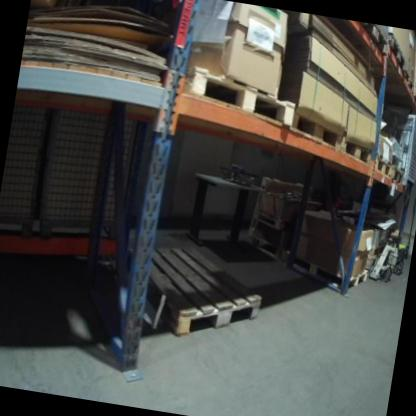pallet: (113, 237, 266, 348), (178, 65, 299, 128), (285, 249, 370, 295), (287, 108, 346, 150), (357, 22, 392, 55), (383, 33, 410, 73), (338, 135, 373, 165), (371, 154, 394, 177), (399, 68, 416, 94), (388, 166, 404, 185), (410, 88, 416, 107)
pallet_truck: (358, 176, 416, 289), (393, 191, 416, 279)
stillage: (33, 99, 142, 252), (0, 94, 55, 237), (372, 106, 416, 185)
